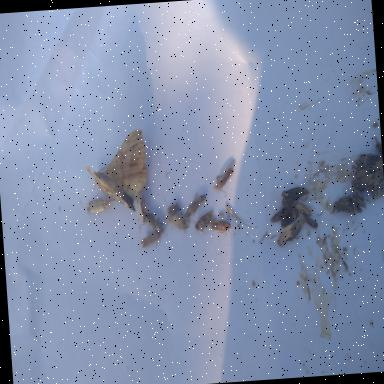pbw: (77, 196, 119, 222), (180, 191, 207, 219), (192, 208, 216, 234), (136, 188, 148, 231), (166, 212, 189, 234), (208, 215, 234, 234), (144, 210, 164, 234), (138, 230, 162, 249), (268, 205, 292, 223), (354, 149, 378, 167), (349, 172, 373, 190), (286, 219, 304, 241), (275, 223, 292, 246), (292, 199, 312, 216), (288, 186, 309, 202), (370, 160, 384, 183), (300, 213, 318, 230), (347, 192, 365, 208), (332, 199, 350, 212), (280, 188, 298, 200), (370, 186, 384, 198)
